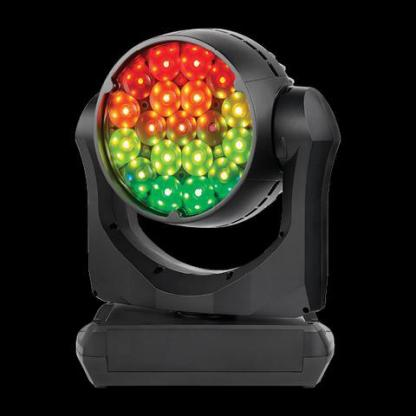other: (99, 44, 256, 219)
